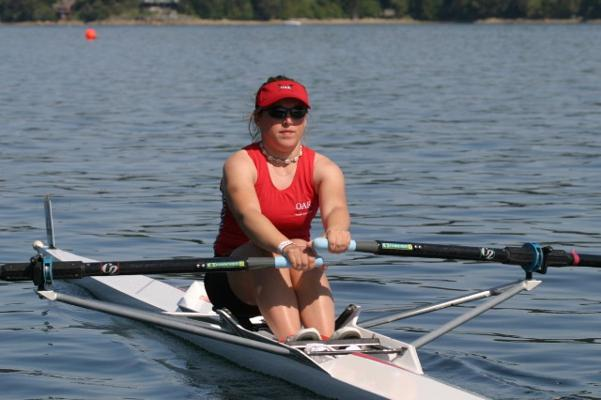person: (216, 75, 362, 346)
